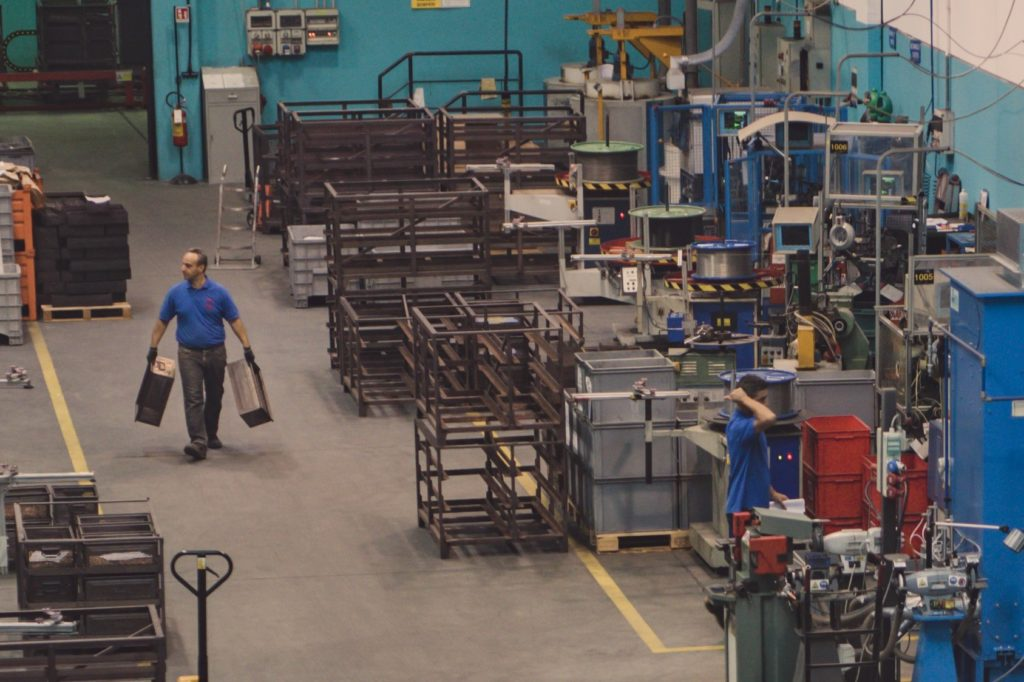person: (152, 249, 251, 460), (727, 375, 786, 510)
